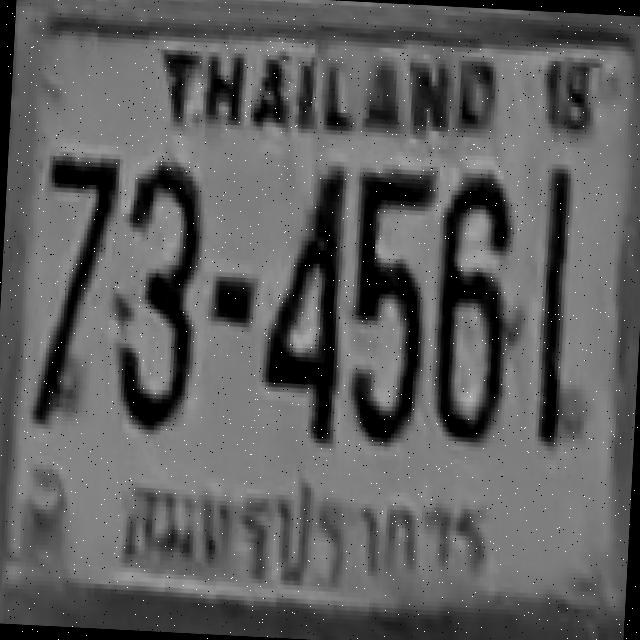1: (532, 166, 578, 445)
3: (106, 156, 204, 428)
4: (256, 160, 348, 438)
5: (344, 166, 432, 442)
6: (428, 170, 515, 442)
7: (30, 151, 117, 423)
SamutPrakan: (112, 458, 510, 606)
